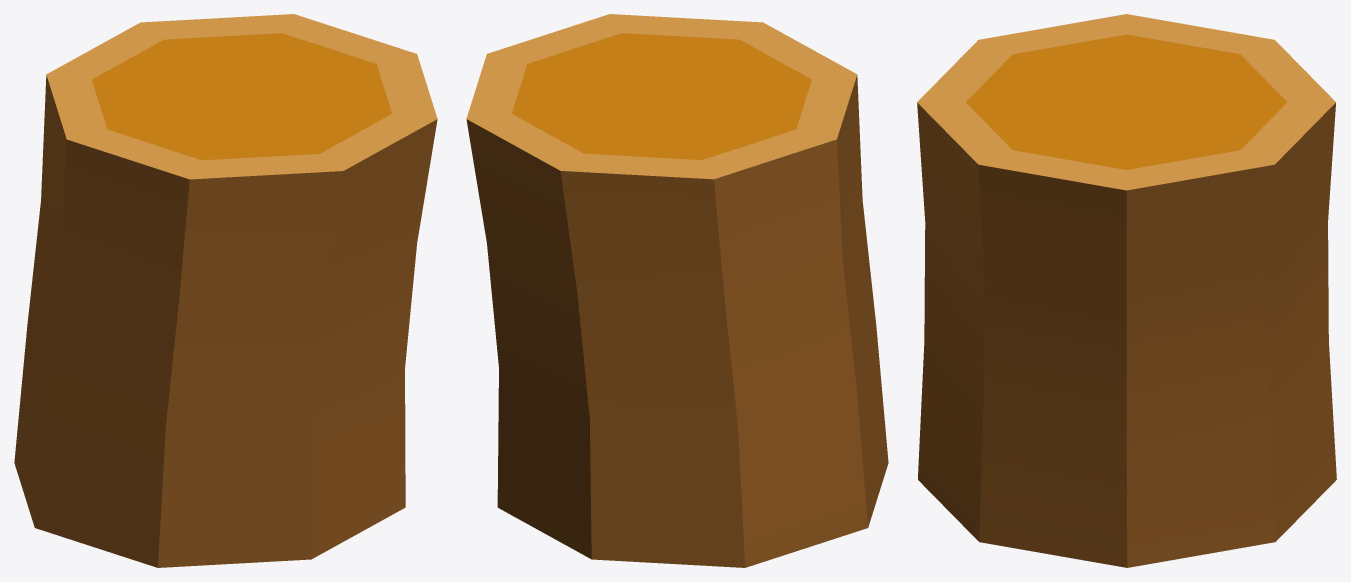
File: SM_WoodenBarkChari_03.fbx
3 views of the same model, side by side, from view 1: azimuth 30°, elevation 25°; view 2: azimuth 150°, elevation 25°; view 3: azimuth 270°, elevation 25° (orthographic). The views are drawn at different scales.
Parts seen in each view (by area): view 1: Bark_03; view 2: Bark_03; view 3: Bark_03.
Part boxes in pixels (bbox=[...]): Bark_03: bbox=[14, 14, 437, 567]; Bark_03: bbox=[466, 14, 888, 567]; Bark_03: bbox=[917, 14, 1336, 567].
Bounding box in the file's own units: 64 × 61 × 59.
